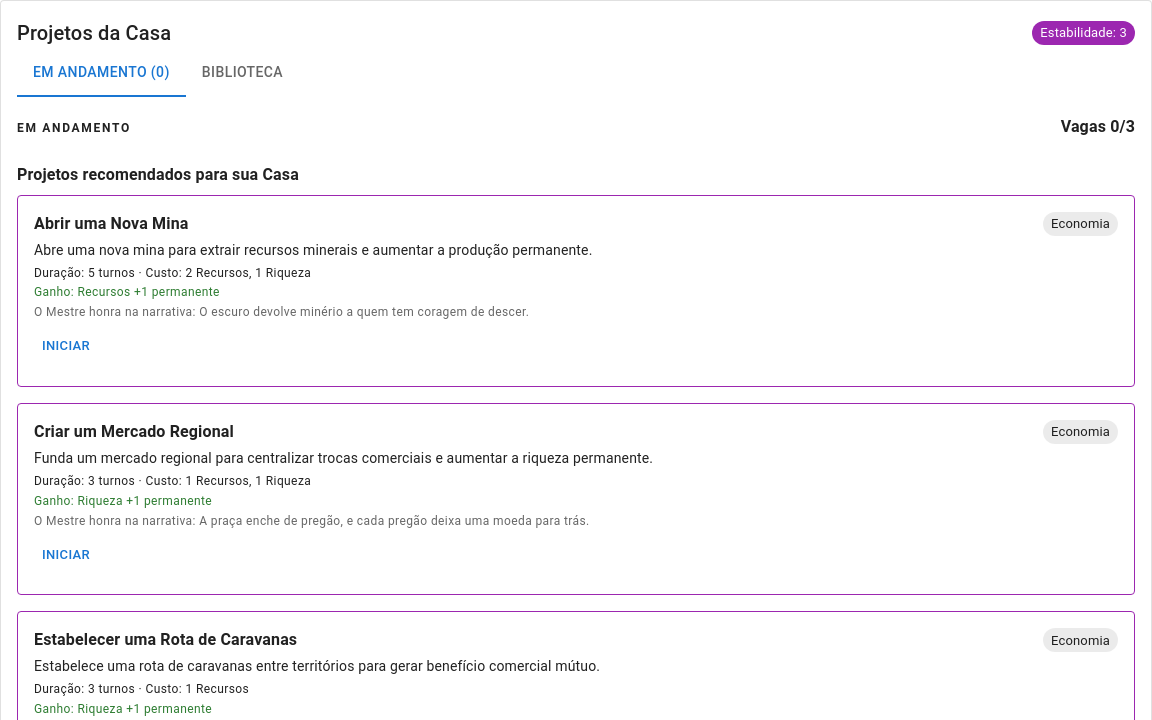
Scenario: HouseProjectsPanel › enhances a free-write card, preserves the text, and starts it
Expected: the heading "Projetos da Casa" is shown, top-left (17, 17), bottom-right (171, 49)
Step 1. Click the tab "Biblioteca" → x=242, y=73, box top-left (186, 49), bottom-right (299, 97)
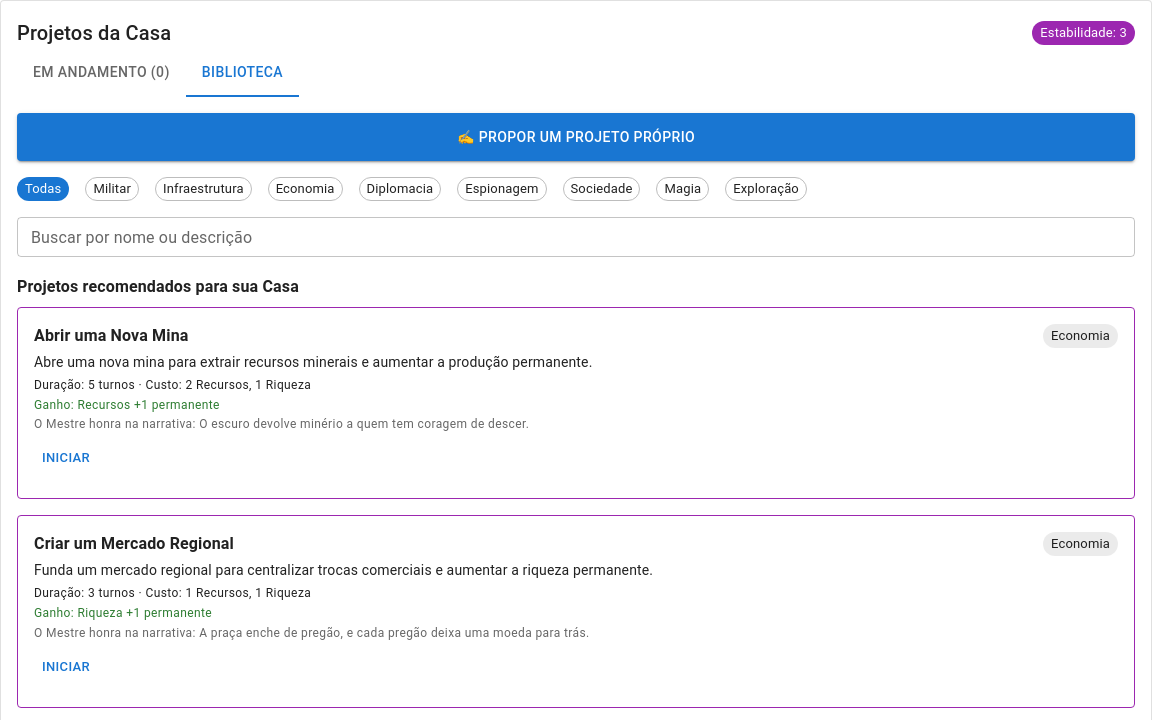
Step 2. Click the button "✍️ Propor um projeto próprio" → x=576, y=137, box top-left (17, 113), bottom-right (1135, 161)
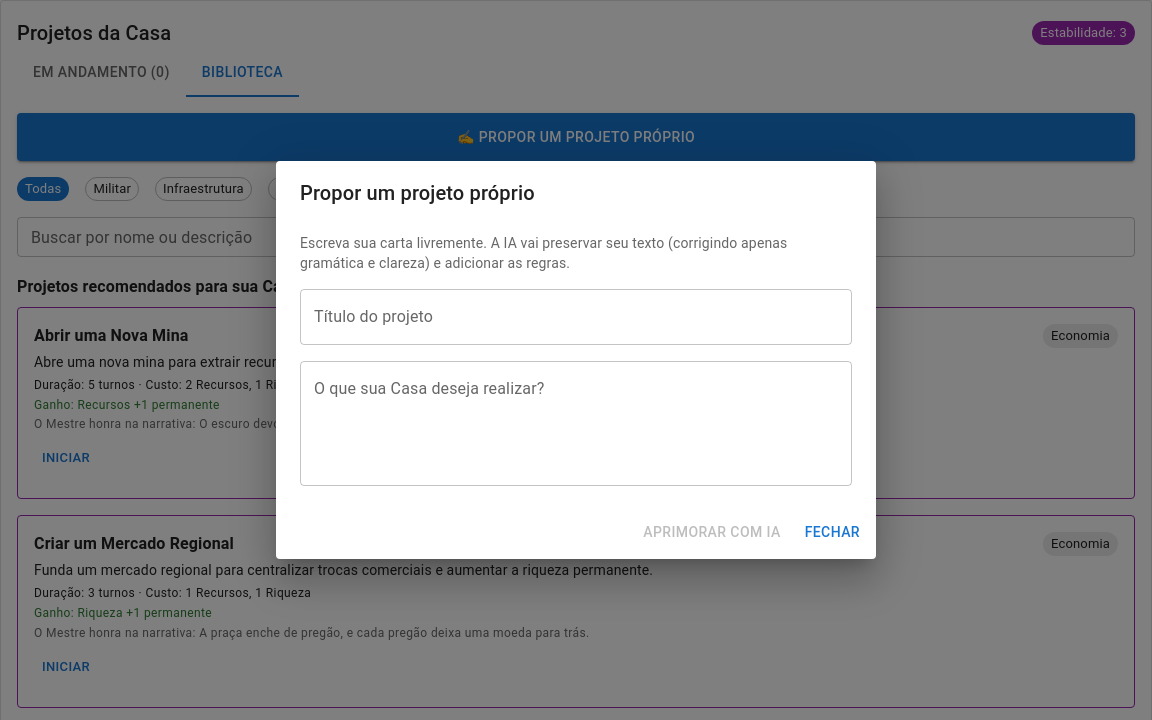
Step 3. Type "Quero uma muralha na capital" into the text box labelled "O que sua Casa deseja realizar?" → x=576, y=424, box top-left (314, 378), bottom-right (838, 470)
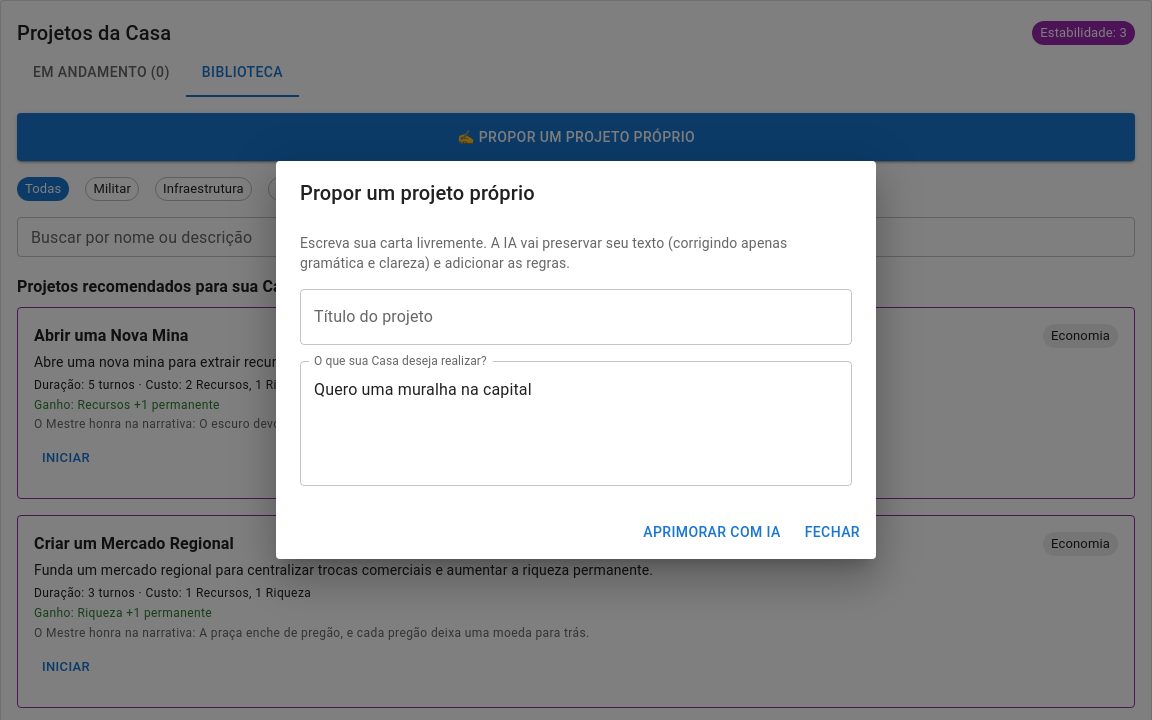
Step 4. Click the button "Aprimorar com IA" → x=712, y=533, box top-left (635, 514), bottom-right (789, 551)
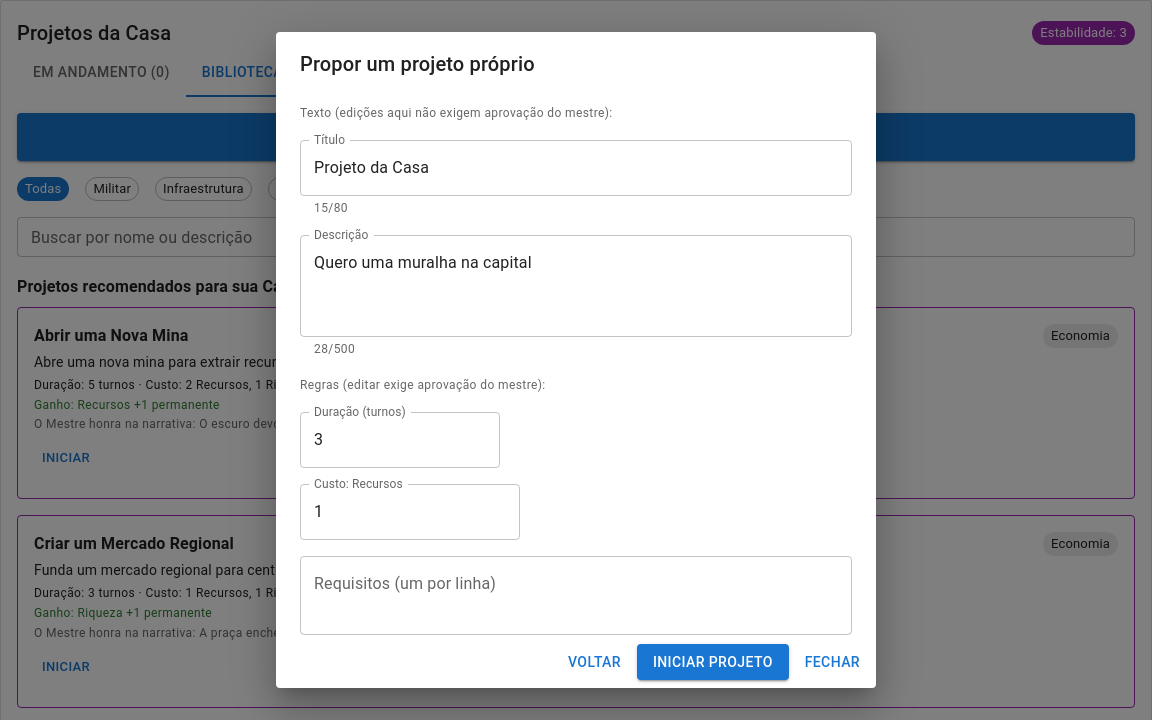
Step 5. Click the button "Iniciar projeto" → x=713, y=662, box top-left (637, 644), bottom-right (789, 680)
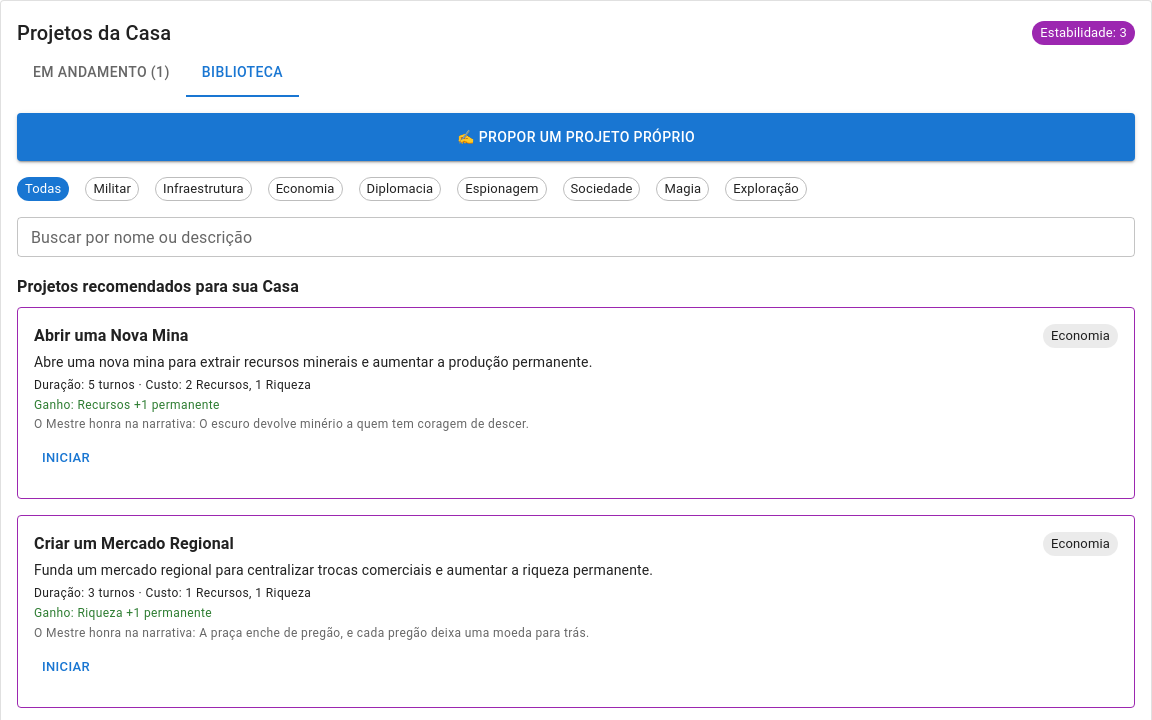
Expected: the tab "Em andamento (1)" is shown, top-left (17, 49), bottom-right (186, 97)
